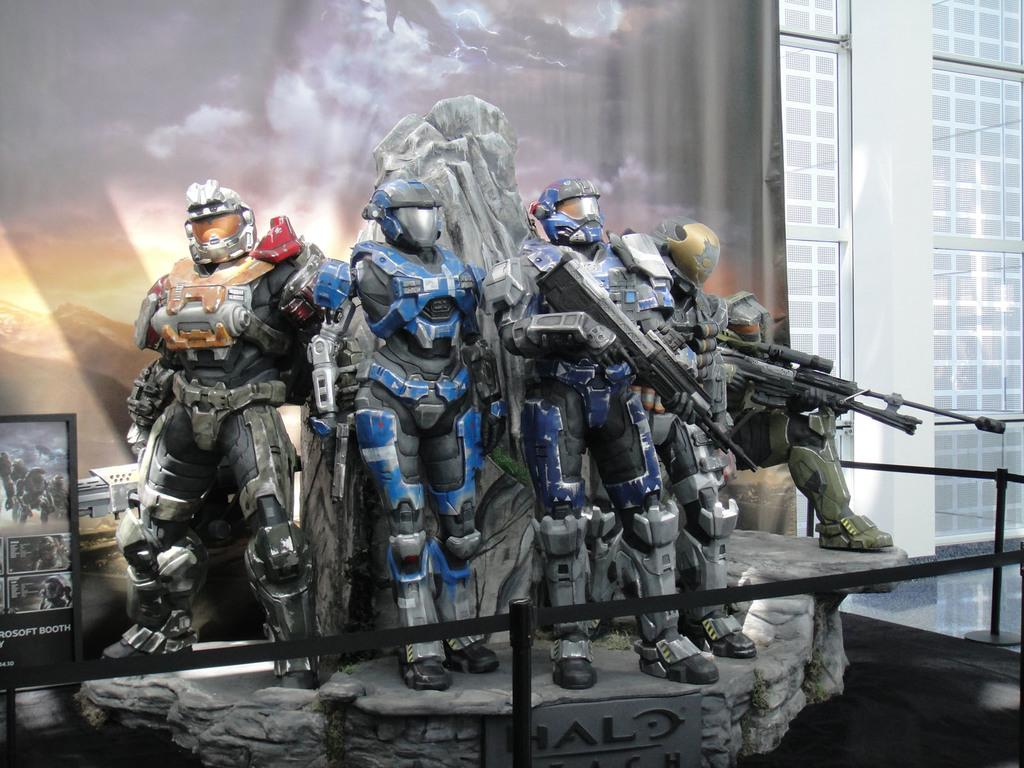Rifle: (540, 255, 754, 471), (706, 332, 1010, 444)
